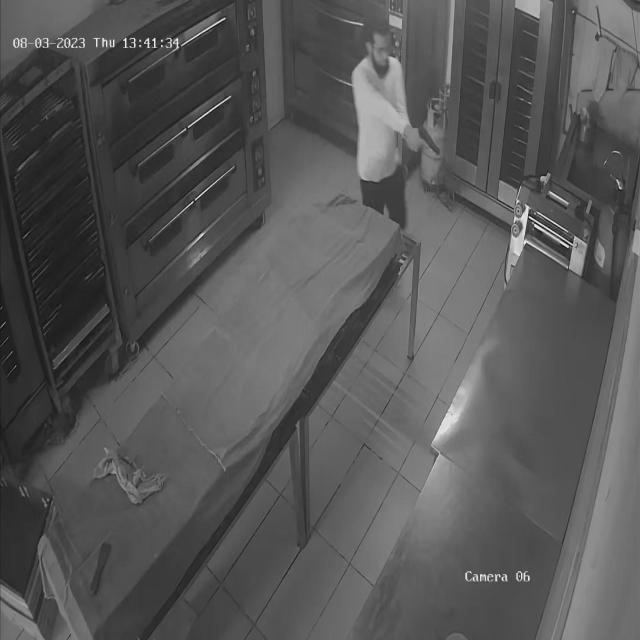Gun: (410, 118, 446, 162)
